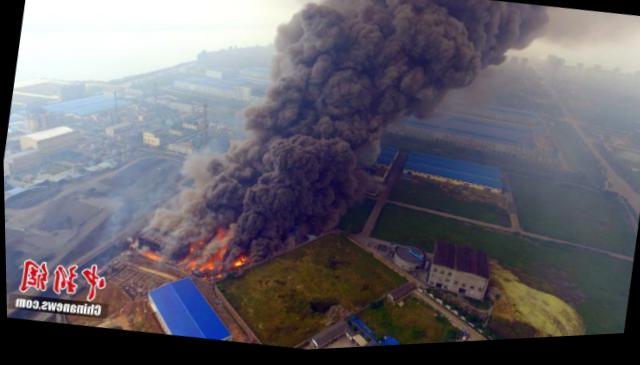fire: (197, 244, 226, 276), (189, 256, 200, 272), (141, 251, 159, 260), (234, 256, 246, 269), (215, 228, 226, 239)
